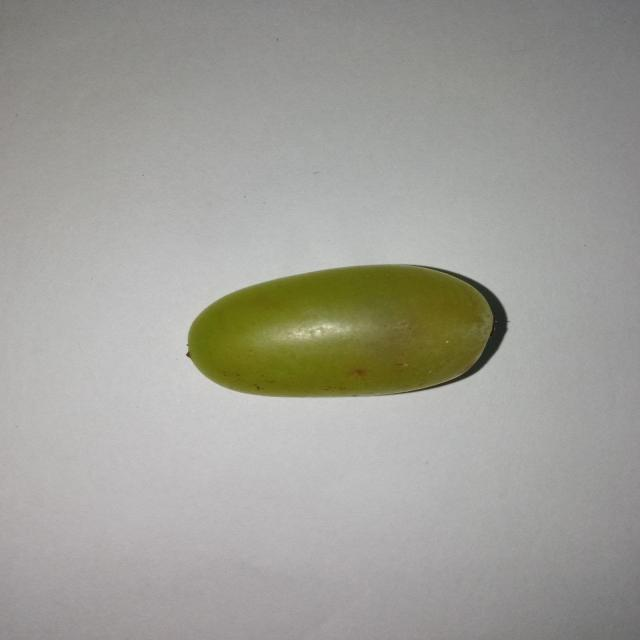fresh_grape: (186, 263, 494, 399)
